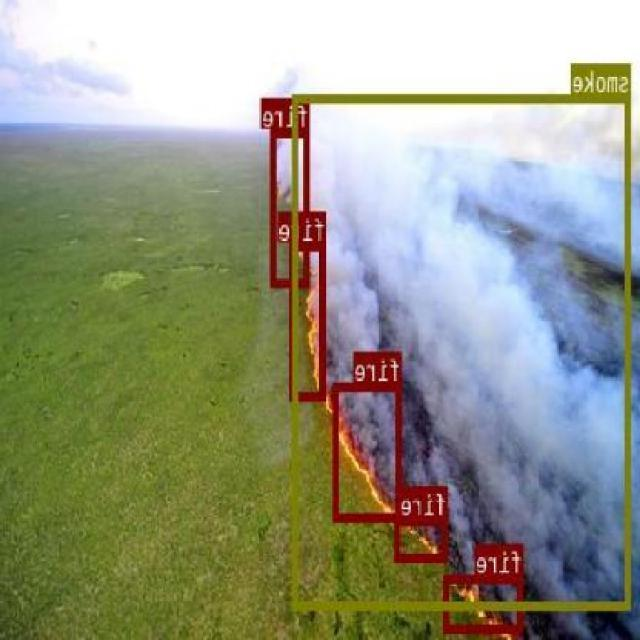Fire: (330, 375, 395, 515), (447, 560, 510, 630), (298, 230, 318, 395), (395, 524, 438, 554)
Smoke: (275, 14, 640, 632)
